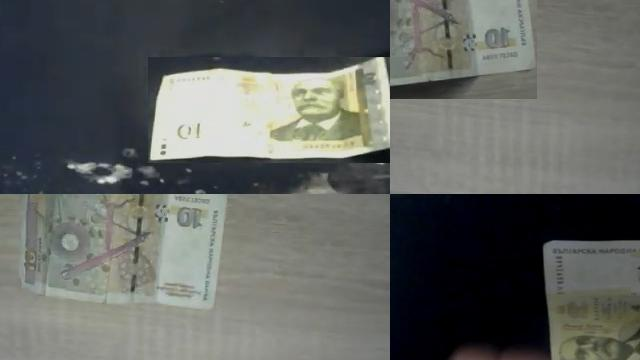10leva: (148, 57, 390, 163), (390, 0, 537, 93), (554, 331, 640, 360)
